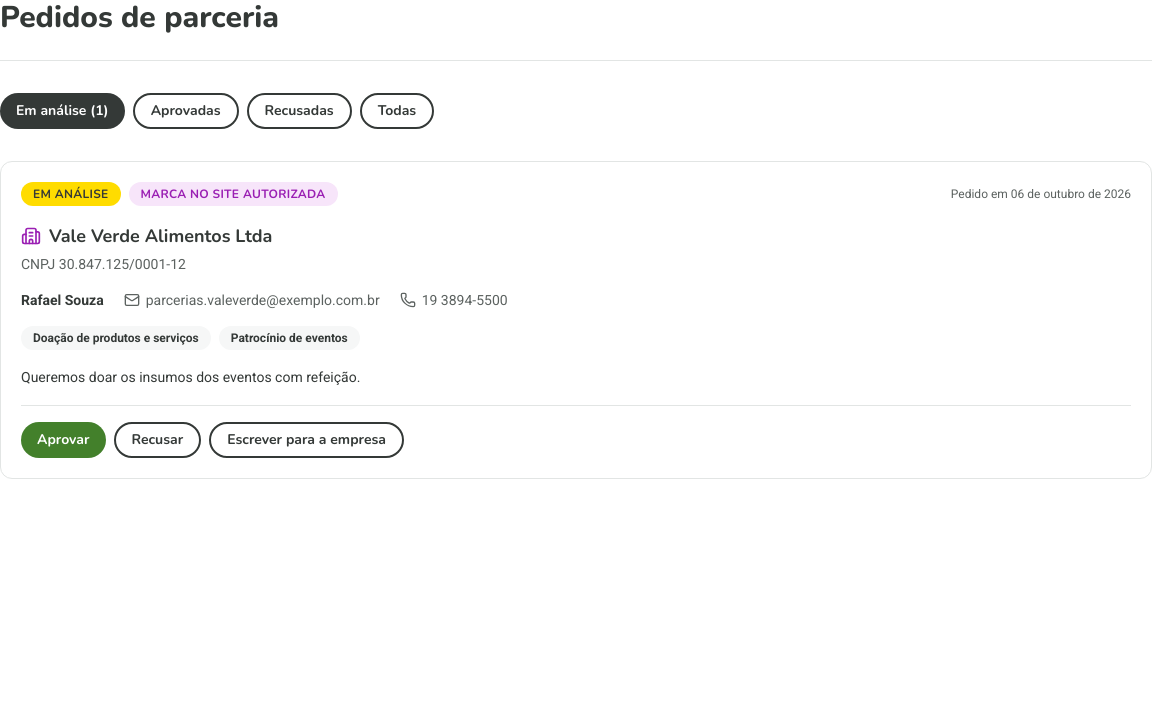
Test: parcerias no painel › não recusa um pedido sem o motivo que a empresa vai ler
Click the button "Recusar" at (157, 440), box [114,422,201,458]
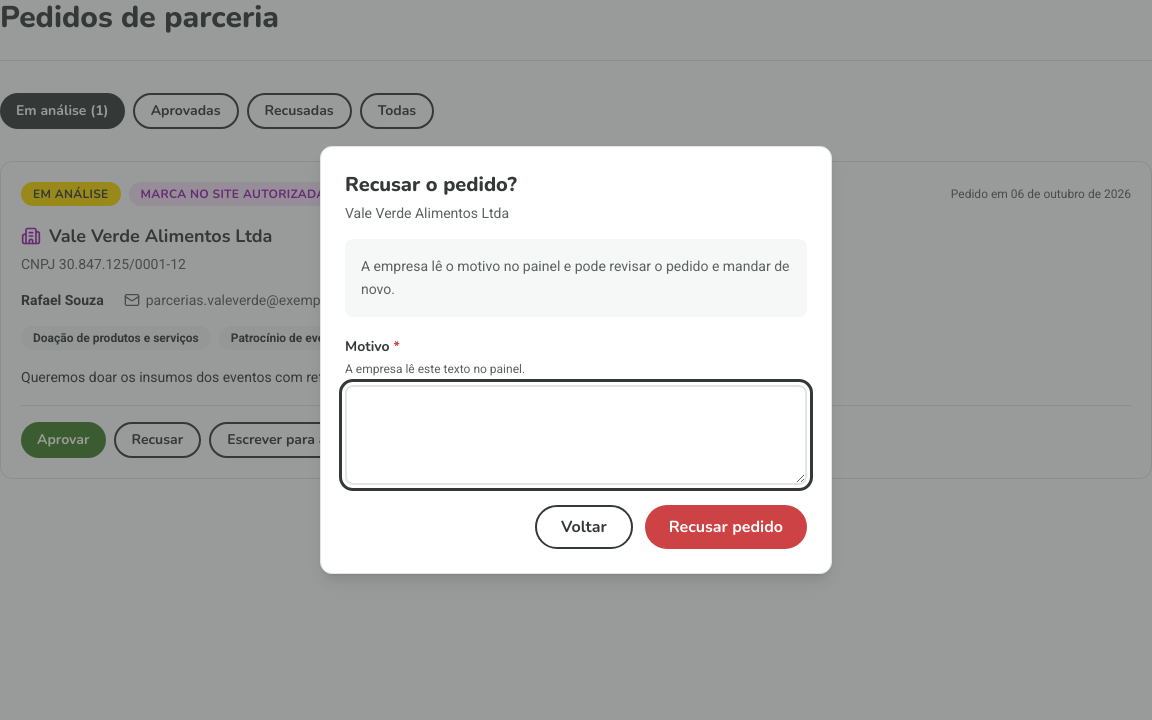
Click the button "Recusar pedido" at (726, 527), box [645,505,807,549]
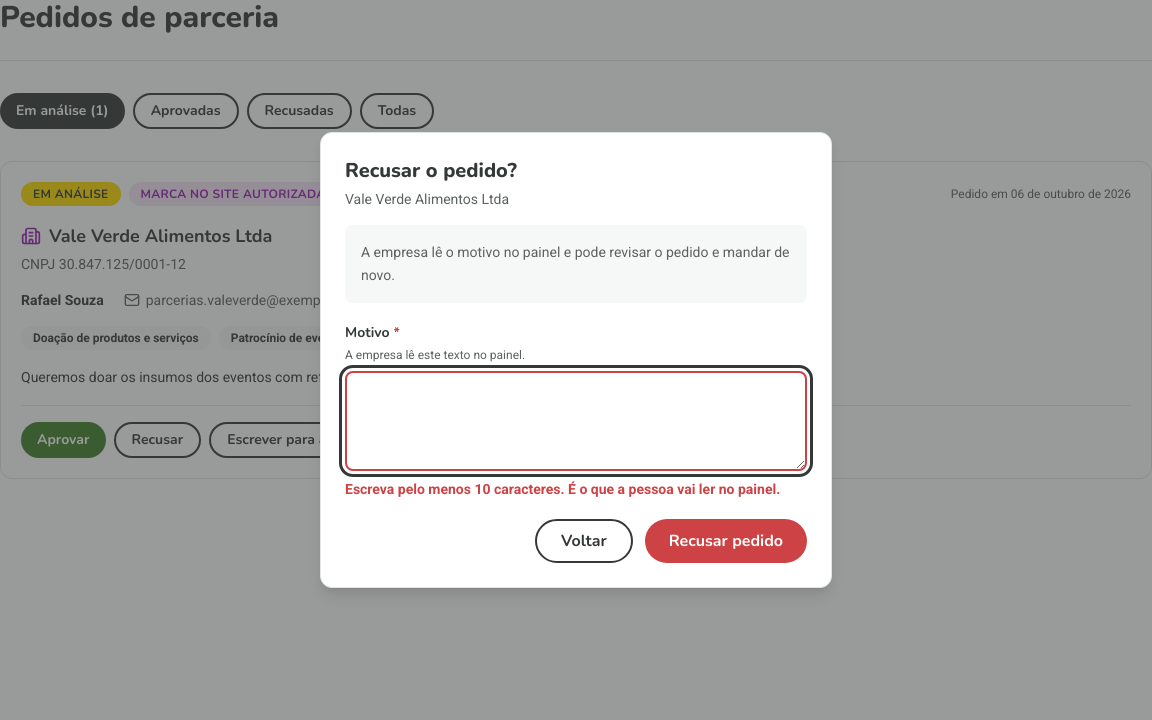
Check: the text "Escreva pelo menos 10 caracteres" is shown, box [345,481,780,497]
